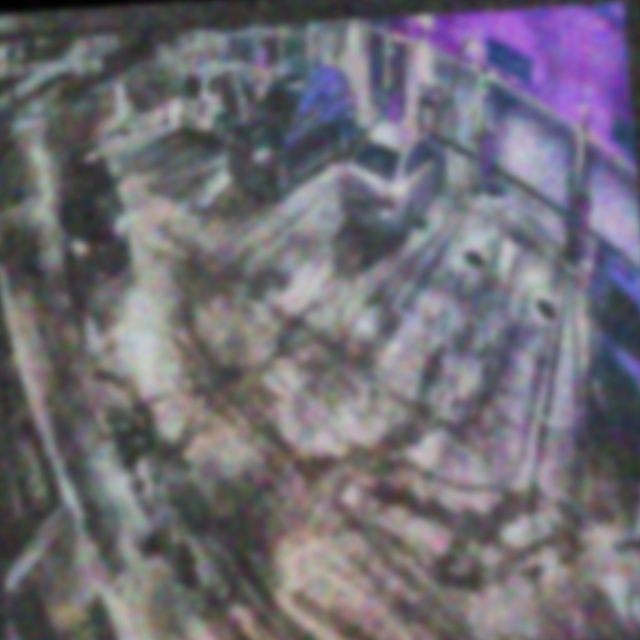Car: (218, 61, 363, 203), (335, 116, 451, 241), (173, 55, 276, 147)
